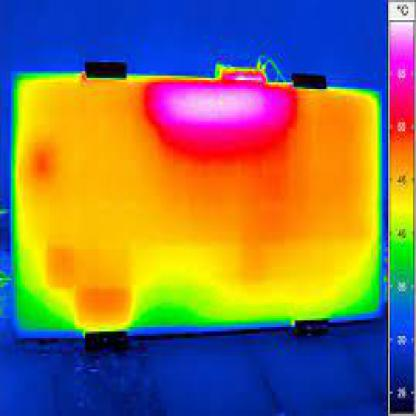Defects: (155, 87, 280, 133)
